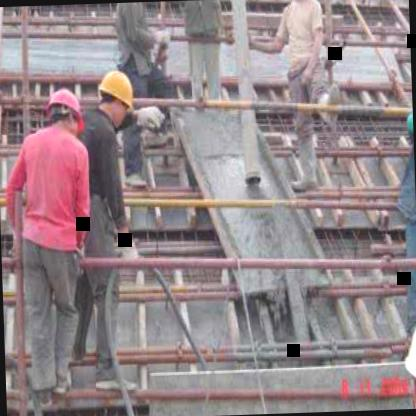helmet: (95, 65, 138, 126), (42, 86, 85, 144)
